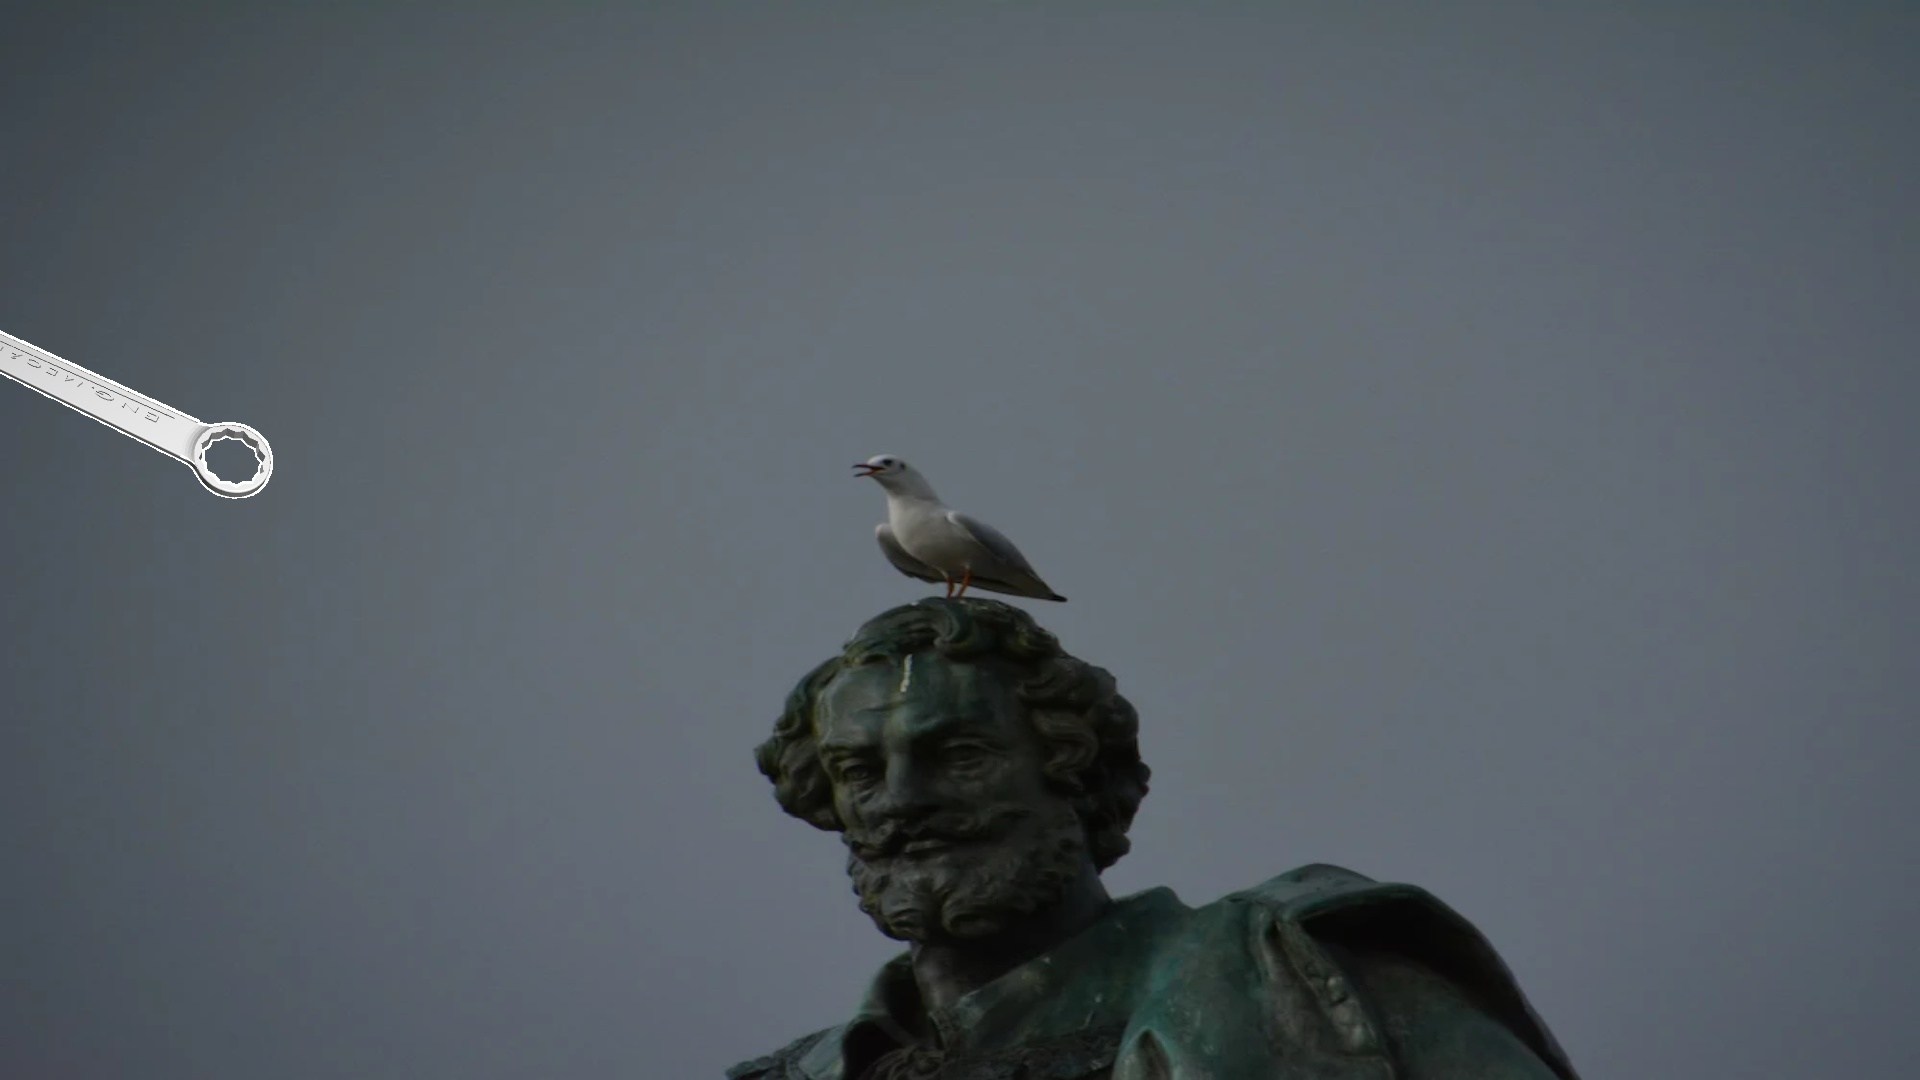Mixed Key: (0, 330, 272, 498)
